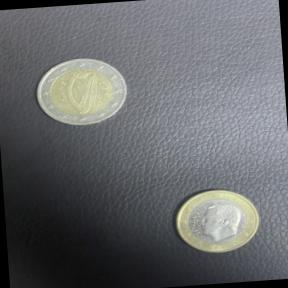1 Euro-B: (166, 180, 264, 261)
2 Euro-B: (26, 49, 134, 132)
